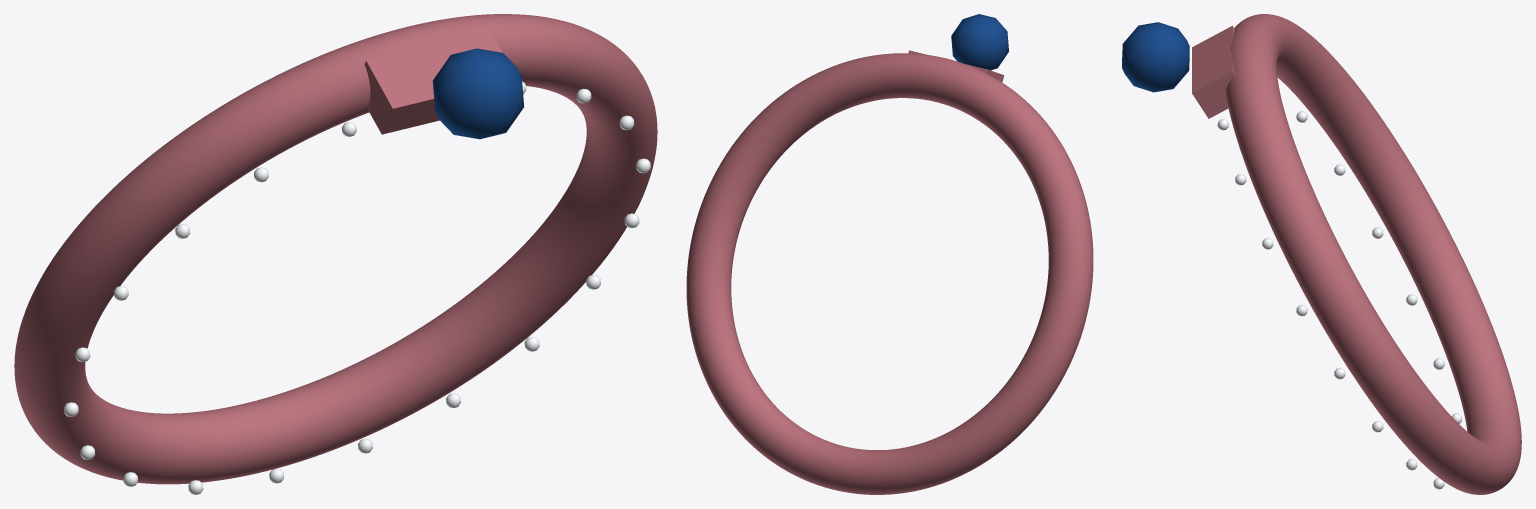
Rendered from mira-rose-stack-ring.glb.
3 views of the same model, side by side, from view 1: azimuth 30°, elevation 25°; view 2: azimuth 150°, elevation 25°; view 3: azimuth 270°, elevation 25° (orthographic). The views are drawn at different scales.
Visible parts, largest first — view 1: gold_band, hero_gemstone, gold_setting; view 2: gold_band, hero_gemstone; view 3: gold_band, hero_gemstone, gold_setting.
Part boxes in pixels (bbox=[...]): gold_band: bbox=[14, 14, 657, 484]; hero_gemstone: bbox=[432, 48, 524, 139]; gold_setting: bbox=[364, 30, 501, 134]; gold_band: bbox=[686, 53, 1093, 494]; hero_gemstone: bbox=[951, 14, 1008, 70]; gold_band: bbox=[1226, 14, 1521, 494]; hero_gemstone: bbox=[1122, 22, 1189, 92]; gold_setting: bbox=[1192, 25, 1234, 118].
Size of the model in its own units: 2.27 by 2.07 by 1.69.
